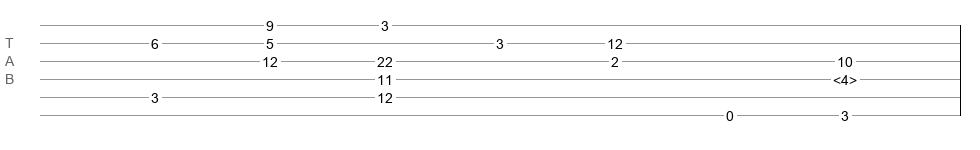0: (726, 108, 734, 118)
10: (837, 54, 853, 64)
11: (377, 72, 393, 82)
12: (262, 54, 278, 64), (377, 90, 393, 100), (607, 36, 623, 46)
2: (611, 54, 619, 64)
22: (377, 54, 393, 64)
3: (151, 90, 159, 100), (381, 18, 389, 28), (496, 36, 504, 46), (841, 108, 849, 118)
5: (266, 36, 274, 46)
6: (151, 36, 159, 46)
9: (266, 18, 274, 28)
harmonic: (833, 72, 857, 82)
